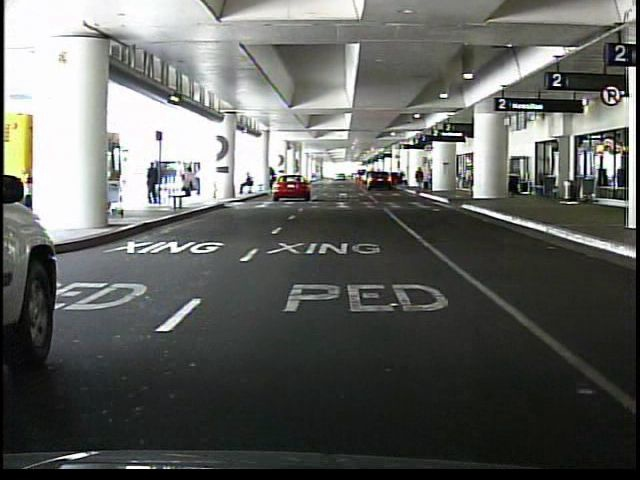person: (149, 163, 163, 207), (464, 162, 476, 200), (237, 172, 254, 195), (415, 166, 426, 192)
